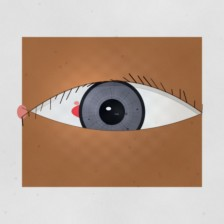hemorrhage_spot: (61, 82, 135, 141)
